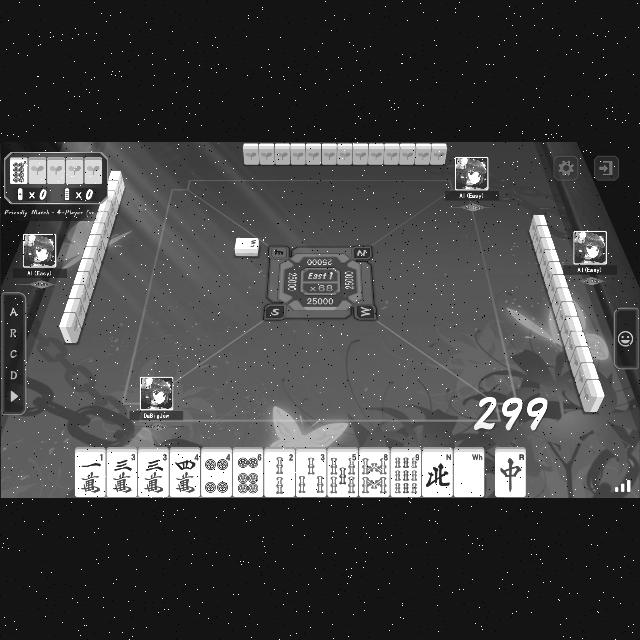1m: (76, 452, 106, 496)
2s: (266, 452, 294, 496)
3m: (109, 454, 137, 496), (140, 454, 168, 496)
3s: (296, 452, 326, 496)
4m: (169, 454, 201, 496)
4p: (202, 454, 232, 496)
5s: (329, 452, 356, 496)
6p: (234, 454, 262, 496)
8p: (10, 160, 28, 183)
8s: (360, 453, 390, 497)
9s: (392, 453, 421, 497)
chun: (497, 451, 525, 497)
haku: (454, 452, 484, 496), (236, 236, 258, 252)
pe: (424, 452, 452, 496)
